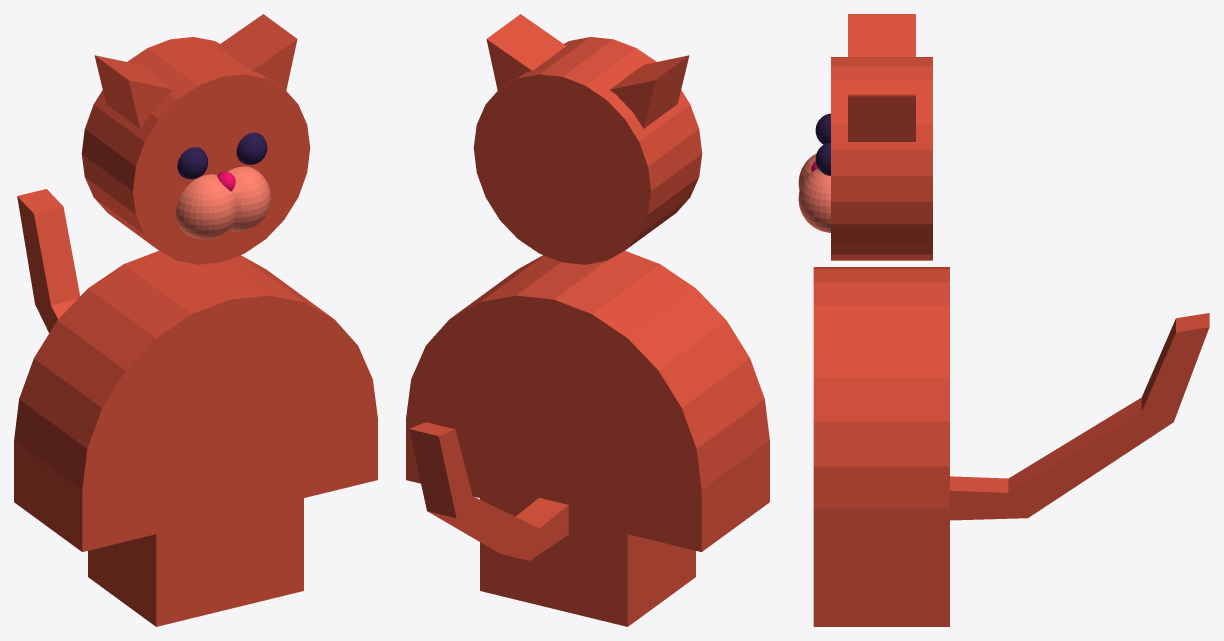
The model's file is Cat.fbx.
The picture shows the model from 3 angles, left to right: view 1: azimuth 30°, elevation 25°; view 2: azimuth 150°, elevation 25°; view 3: azimuth 270°, elevation 25°; orthographic projection.
Visible parts, largest first — view 1: Cube; view 2: Cube; view 3: Cube.
Boxes of the visible parts, x1,y1,x2,y2 form: Cube: [14, 14, 377, 626]; Cube: [406, 14, 769, 626]; Cube: [798, 14, 1209, 626].
Bounding box in the file's own units: 200 × 347 × 241.
